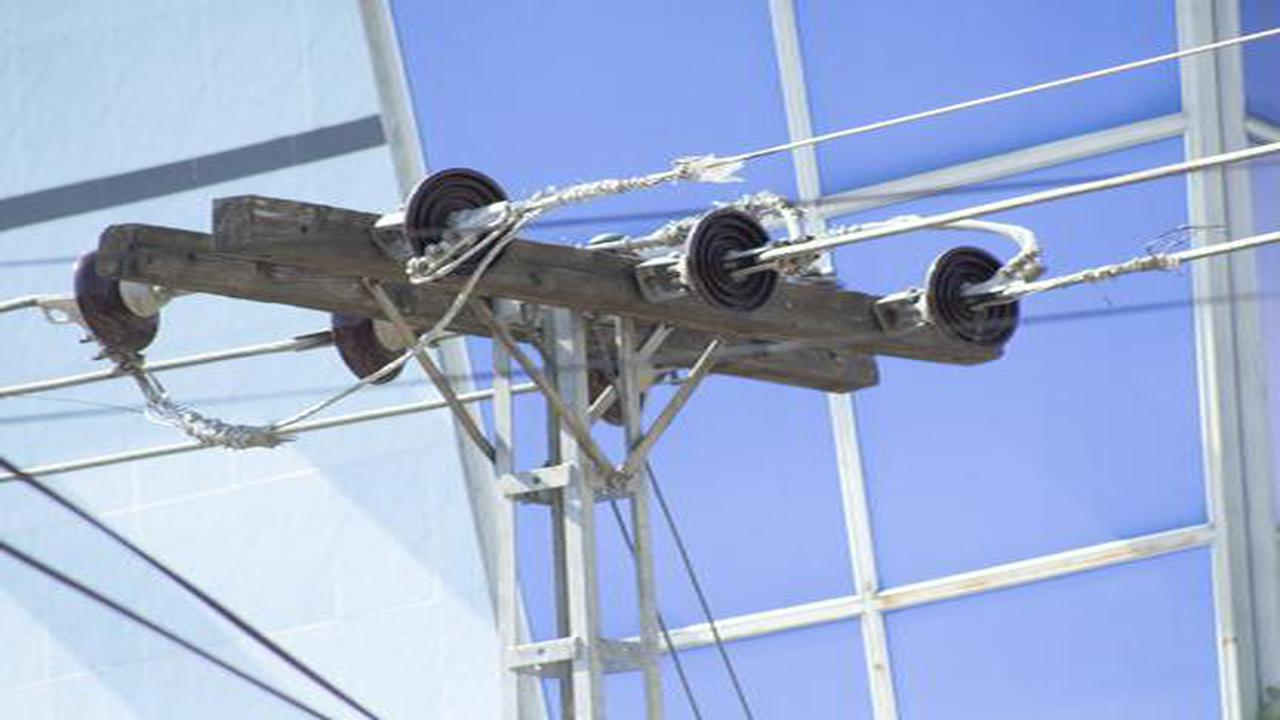insulator_disc: (407, 165, 519, 277), (681, 212, 786, 322), (922, 240, 1024, 353), (72, 251, 167, 353), (325, 301, 420, 391)
